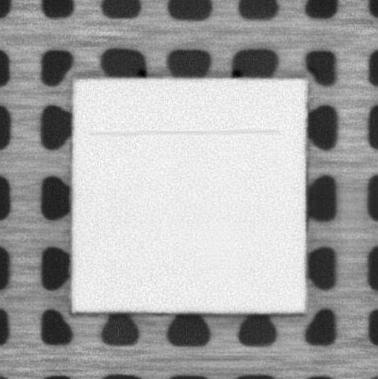DIE_CRACK: (90, 124, 279, 140)
